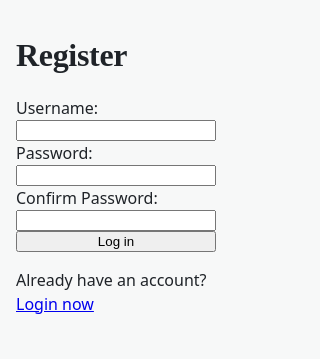
it: RegisterPage validation › rejects mismatched password confirmation
Type "alice" into the field labelled "Username:" at (116, 130), box [16,120,216,141]
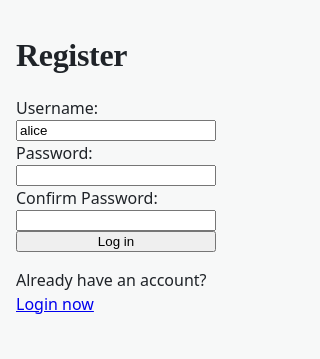
Type "Abcdefg1!" into the password field labelled "Password:" at (116, 175), box [16,165,216,186]
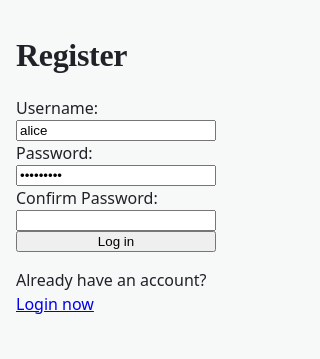
Type "Different1!" into the password field labelled "Confirm Password:" at (116, 220), box [16,210,216,231]
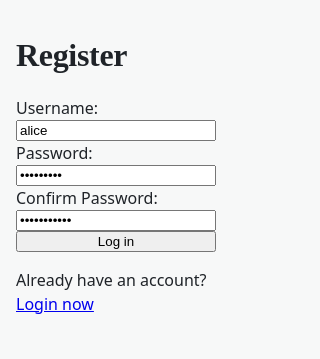
Click the button "Log in" at (116, 241), box [16,231,216,252]
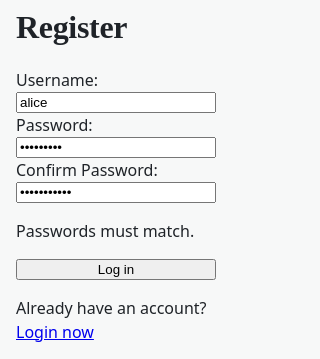
Now the text "Passwords must match." is shown, box [16,219,216,243]
